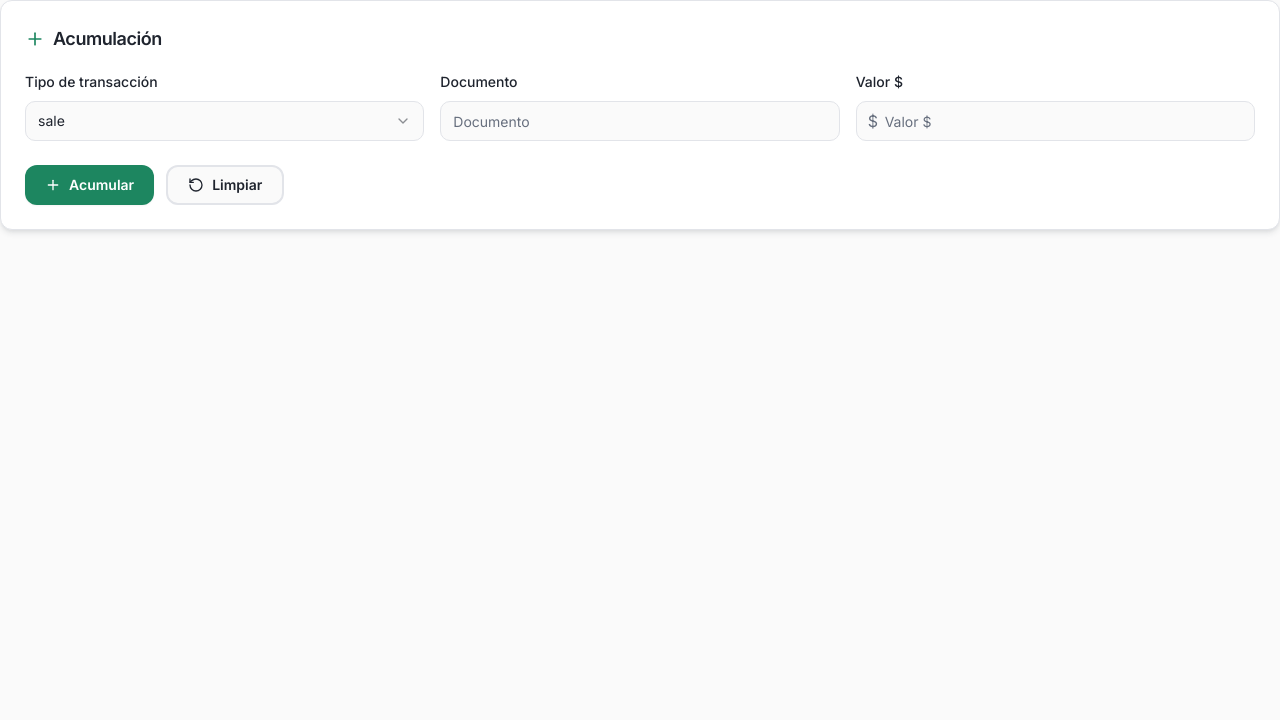
Test: AccumulationForm › shows error for 403 FORBIDDEN
Expected: the button "Acumular" is enabled, [25,165,154,205]
Type "12345678" into the field with test id "acc-document". click: [640, 121]
box: [440,101,840,141]
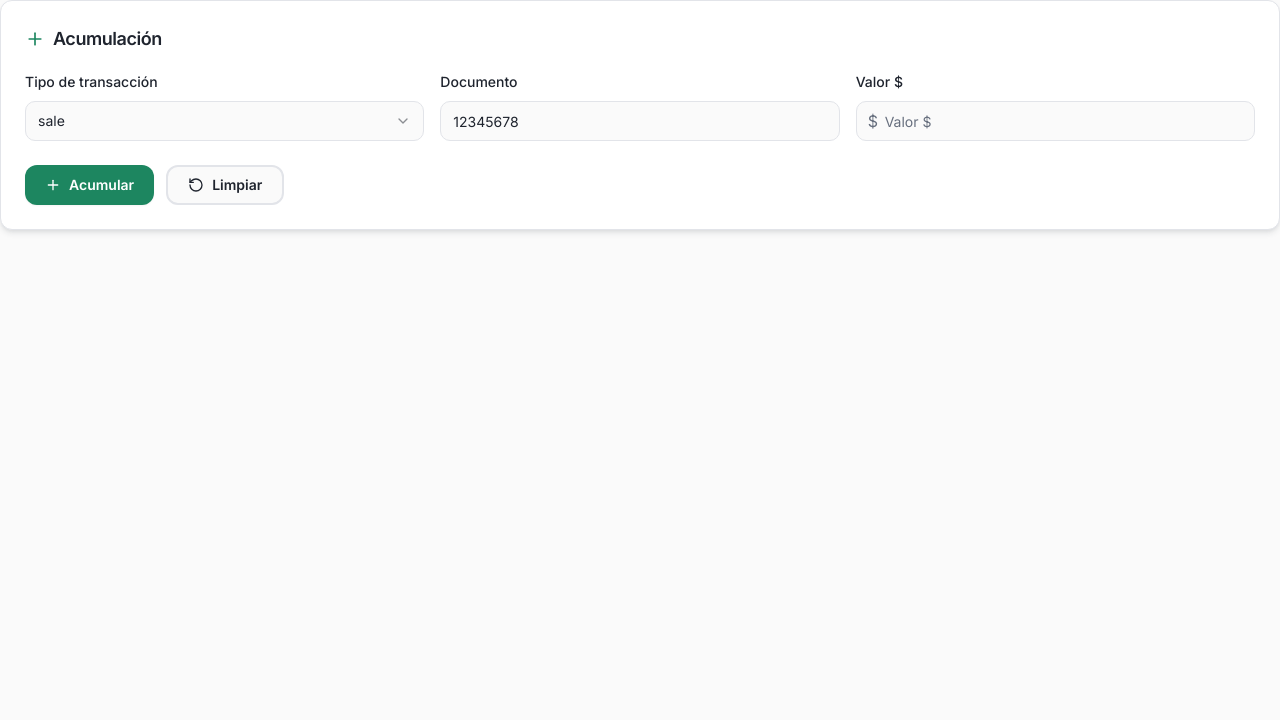
Type "100" into the number field with test id "acc-value". click: [1055, 121]
box: [856,101,1255,141]
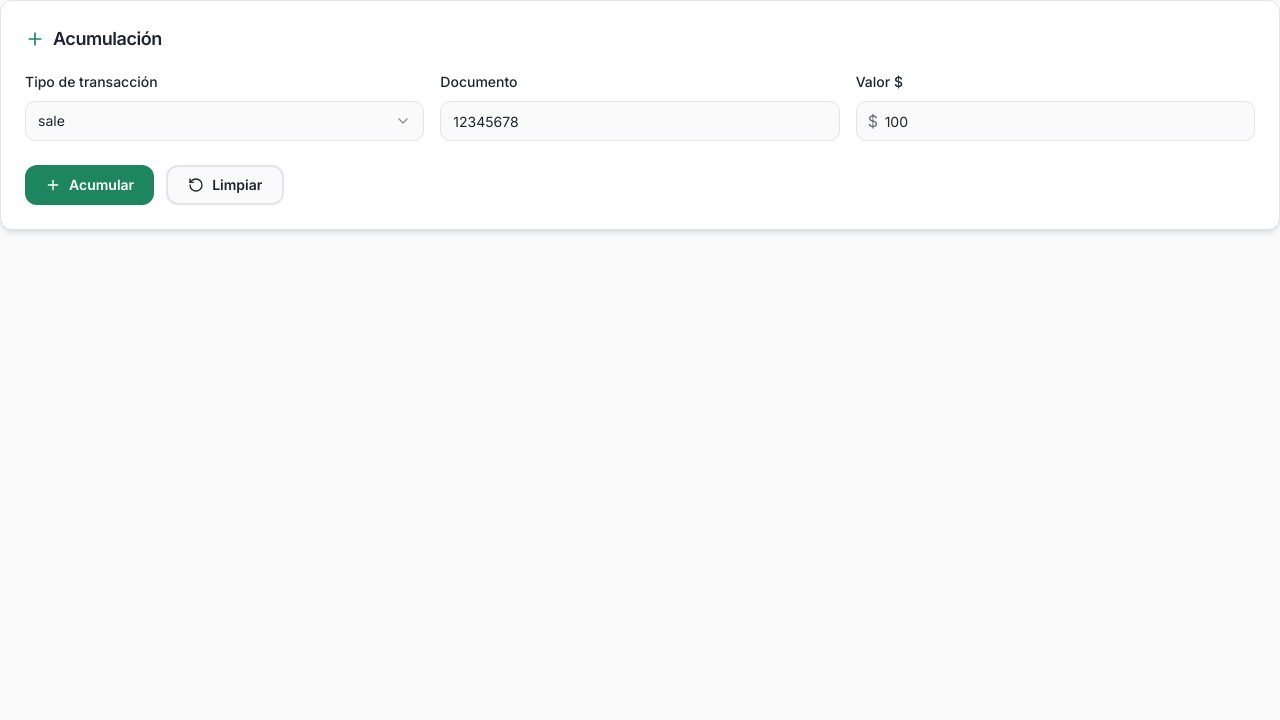
Click the button "Acumular". click: [90, 185]
box: [25,165,154,205]
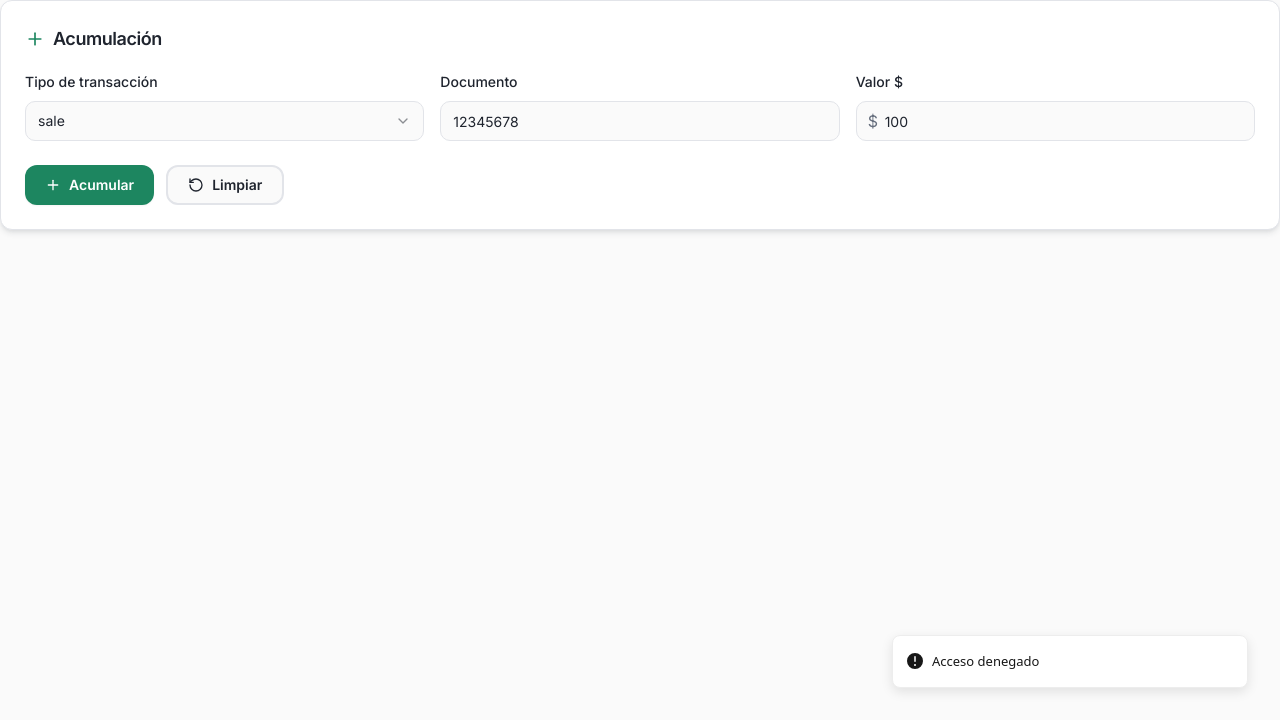
Expected: the text "Acceso denegado" is shown, [932,652,1039,671]
